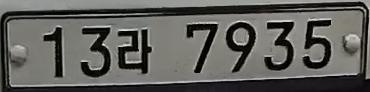1: (37, 21, 74, 82)
3: (75, 25, 115, 79), (260, 17, 298, 72)
5: (299, 16, 337, 73)
7: (183, 19, 222, 76)
9: (223, 20, 259, 76)
라: (113, 24, 156, 78)
